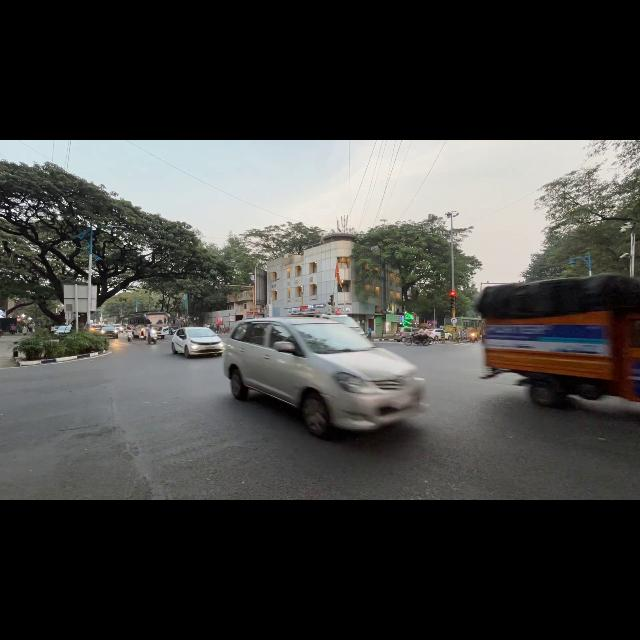bus: (128, 311, 169, 338), (456, 317, 482, 333)
car: (224, 317, 424, 437), (171, 327, 224, 357), (321, 315, 366, 336), (394, 327, 418, 341), (429, 329, 452, 340), (100, 325, 118, 339), (54, 325, 72, 338), (166, 326, 179, 334), (114, 324, 126, 332), (89, 325, 101, 332)
motorcycle: (405, 334, 431, 345), (147, 329, 157, 344), (469, 332, 477, 342), (126, 331, 132, 341)
